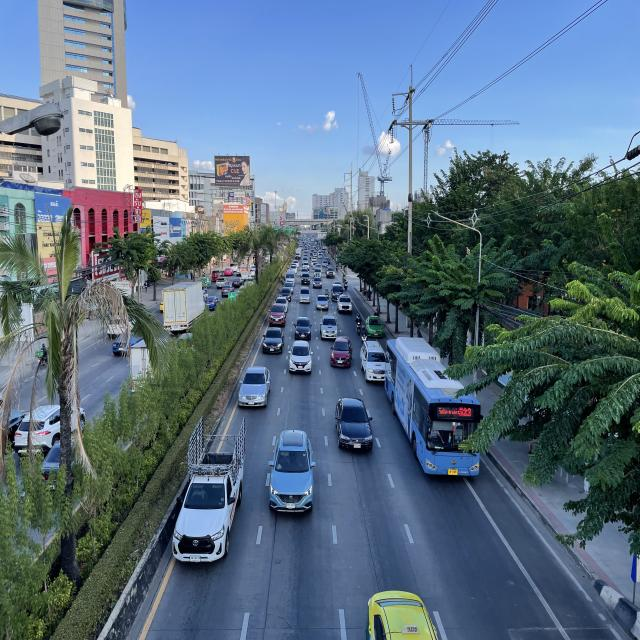bike: (355, 313, 362, 335), (361, 325, 368, 345), (324, 286, 330, 300), (344, 278, 348, 291)
bus: (384, 336, 482, 481)
car: (267, 427, 316, 518), (363, 588, 440, 640), (334, 395, 374, 453), (237, 366, 272, 410), (288, 340, 314, 376), (330, 335, 353, 369), (260, 326, 284, 355), (293, 315, 312, 341), (365, 315, 384, 338), (268, 304, 286, 326), (337, 294, 352, 314), (298, 285, 312, 304), (331, 284, 344, 302), (315, 294, 329, 310), (274, 296, 288, 312), (280, 287, 292, 302)
truck: (170, 416, 247, 566), (360, 339, 387, 384), (319, 308, 339, 340)
